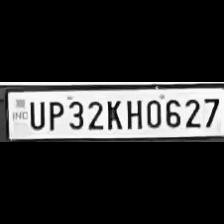0: (143, 96, 161, 128)
2: (86, 98, 104, 130), (183, 96, 201, 128)
3: (64, 98, 84, 130)
6: (162, 96, 180, 128)
7: (201, 96, 219, 128)
H: (122, 96, 142, 130)
K: (104, 97, 122, 130)
P: (45, 98, 63, 130)
U: (26, 98, 44, 130)
